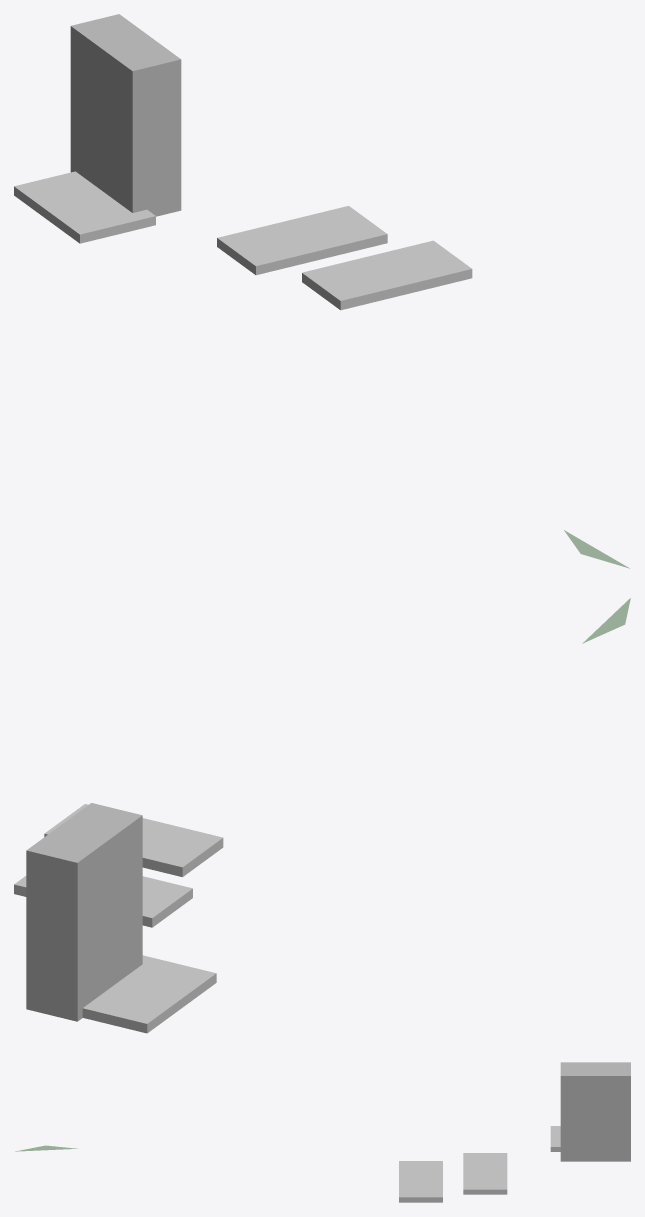
File: 113_80_mid.glb
3 views of the same model, one above another, from view 1: azimuth 30°, elevation 25°; view 2: azimuth 150°, elevation 25°; view 3: azimuth 270°, elevation 25° (orthographic). The views are drawn at different scales.
Bounding box in the file's own units: 101 × 56.4 × 368.
